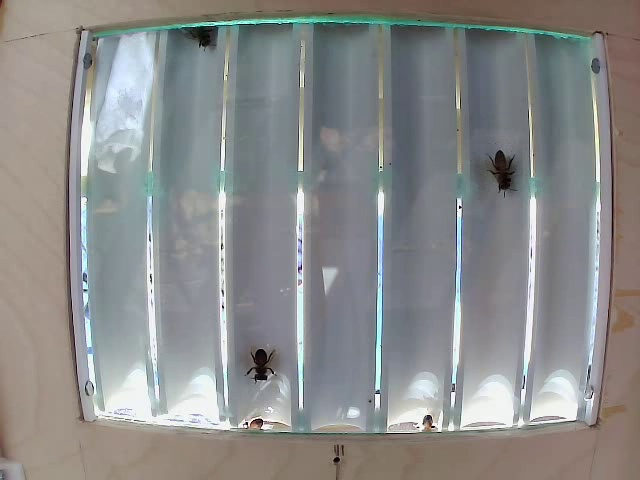bee: (476, 127, 525, 188), (239, 344, 285, 383)
